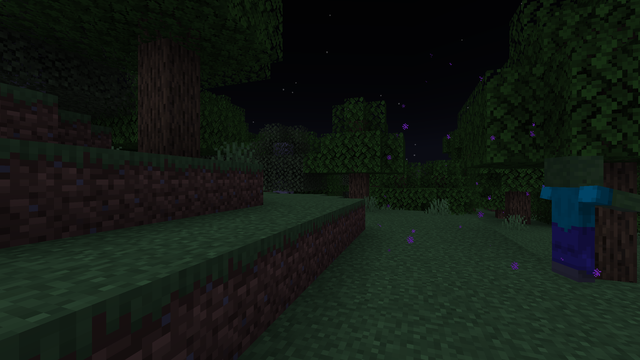zombies: (541, 158, 607, 285)
